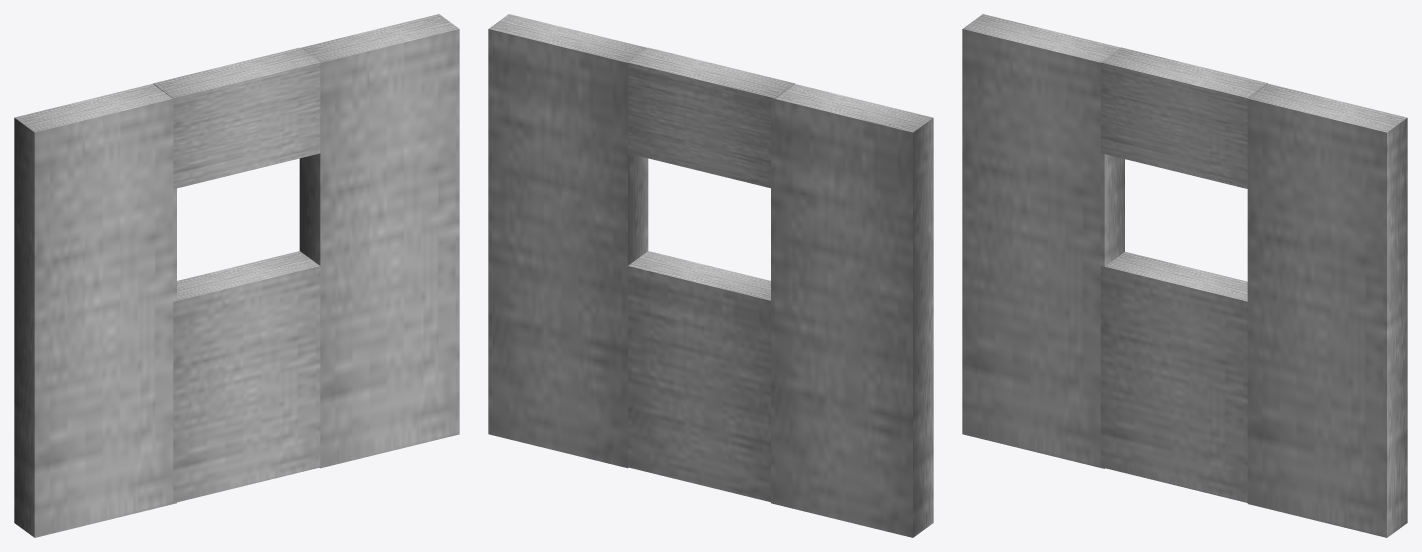
Rendered from metal door without glass.fbx.
3 renders of one model, left to right at view 1: azimuth 30°, elevation 25°; view 2: azimuth 150°, elevation 25°; view 3: azimuth 330°, elevation 25°, orthographic.
Parts seen in each view (by area): view 1: pCube3; view 2: pCube3; view 3: pCube3.
Boxes of the visible parts, bbox=[...] form: pCube3: bbox=[14, 14, 459, 537]; pCube3: bbox=[488, 14, 933, 537]; pCube3: bbox=[962, 14, 1407, 537].
Bounding box in the file's own units: 11.98 × 10.93 × 1.
Materials: 1 (1 with a texture image).
